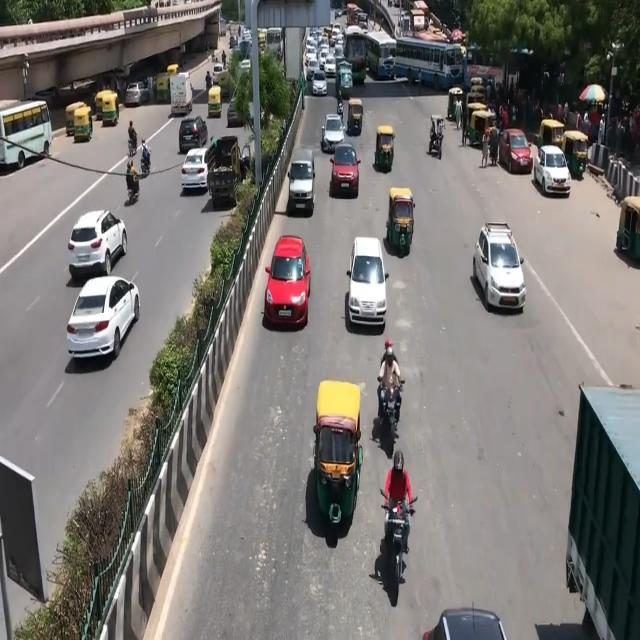Auto: (309, 381, 366, 543), (390, 189, 418, 256), (375, 123, 396, 183)
Bike: (382, 448, 418, 586), (376, 338, 406, 453)
Car: (62, 270, 140, 358), (261, 236, 315, 350), (471, 225, 529, 312), (343, 236, 388, 333), (67, 210, 130, 279)
